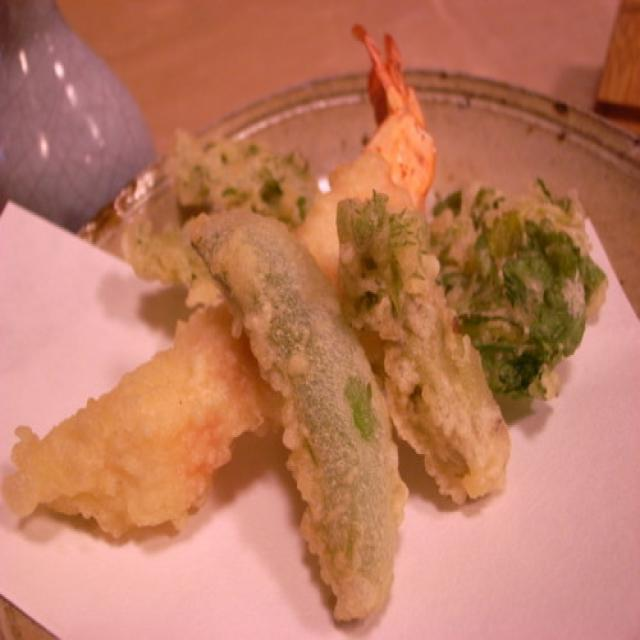蔬菜料理: (19, 25, 601, 640)
